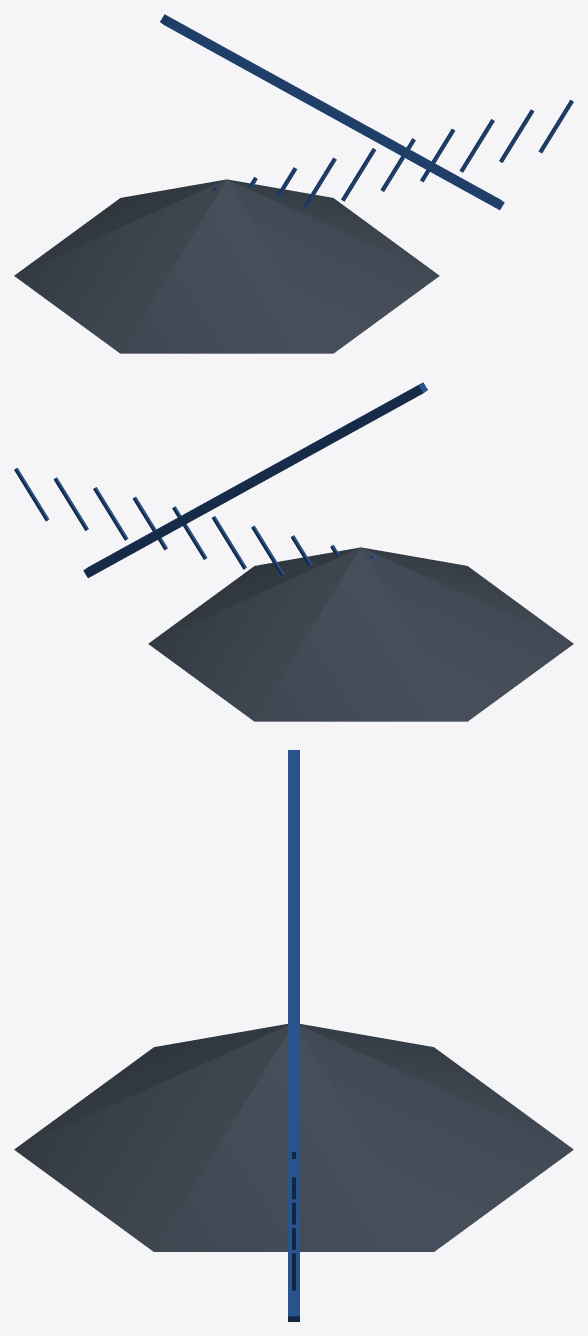
The model's file is coal_yard.glb.
3 renders of one model, top to bottom at view 1: azimuth 30°, elevation 25°; view 2: azimuth 150°, elevation 25°; view 3: azimuth 270°, elevation 25°, orthographic. The views are drawn at different scales.
Bounding box in the file's own units: 38.41 × 19.92 × 28.
